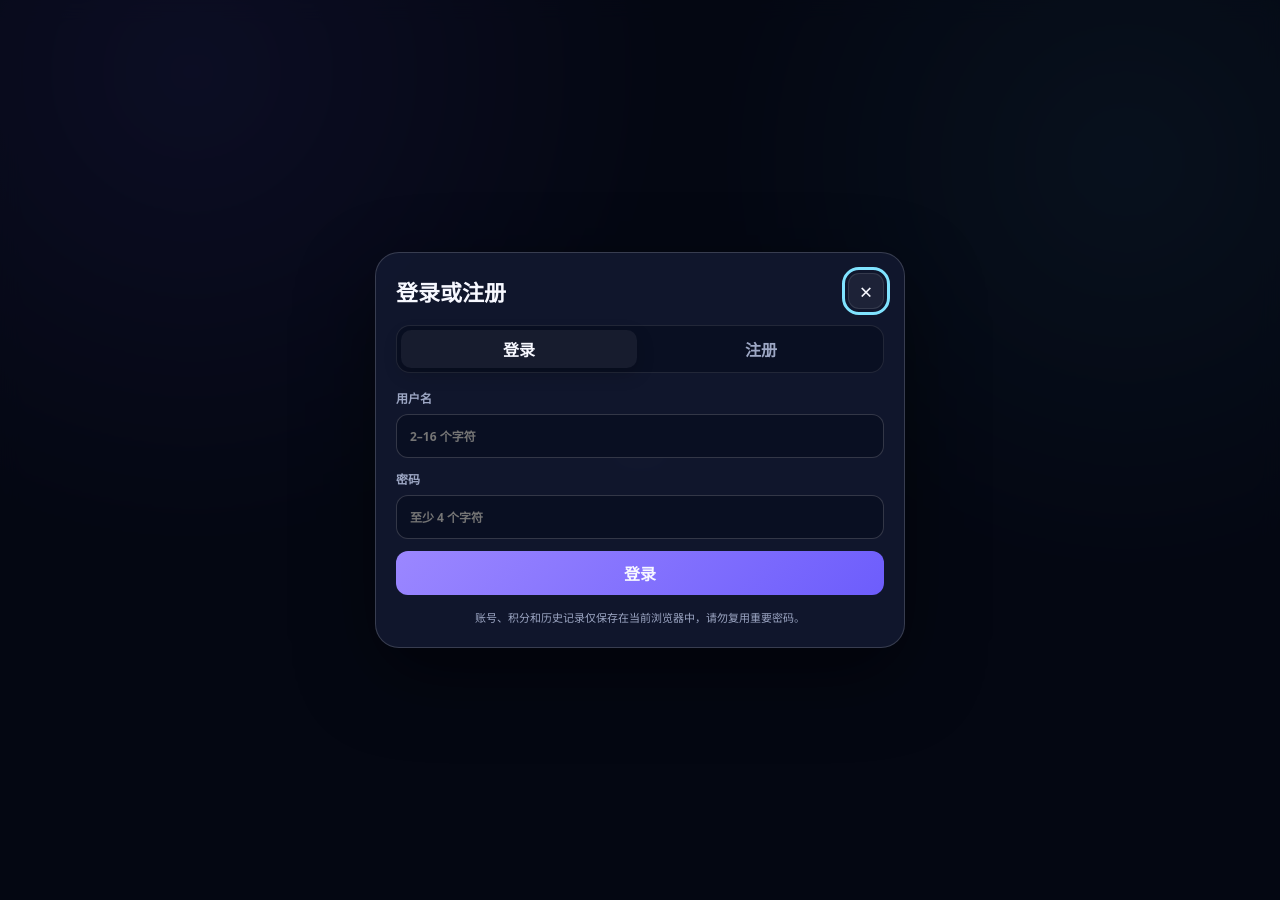
Test: AccountDialog › switches to registration and submits normalized field values
Expected: the dialog "登录或注册" is shown, [375, 252, 905, 648]
Expected: the text "账号、积分和历史记录仅保存在当前浏览器中，请勿复用重要密码。" is shown, [475, 610, 805, 625]
Click the tab "注册": (761, 349) [643, 330, 879, 368]
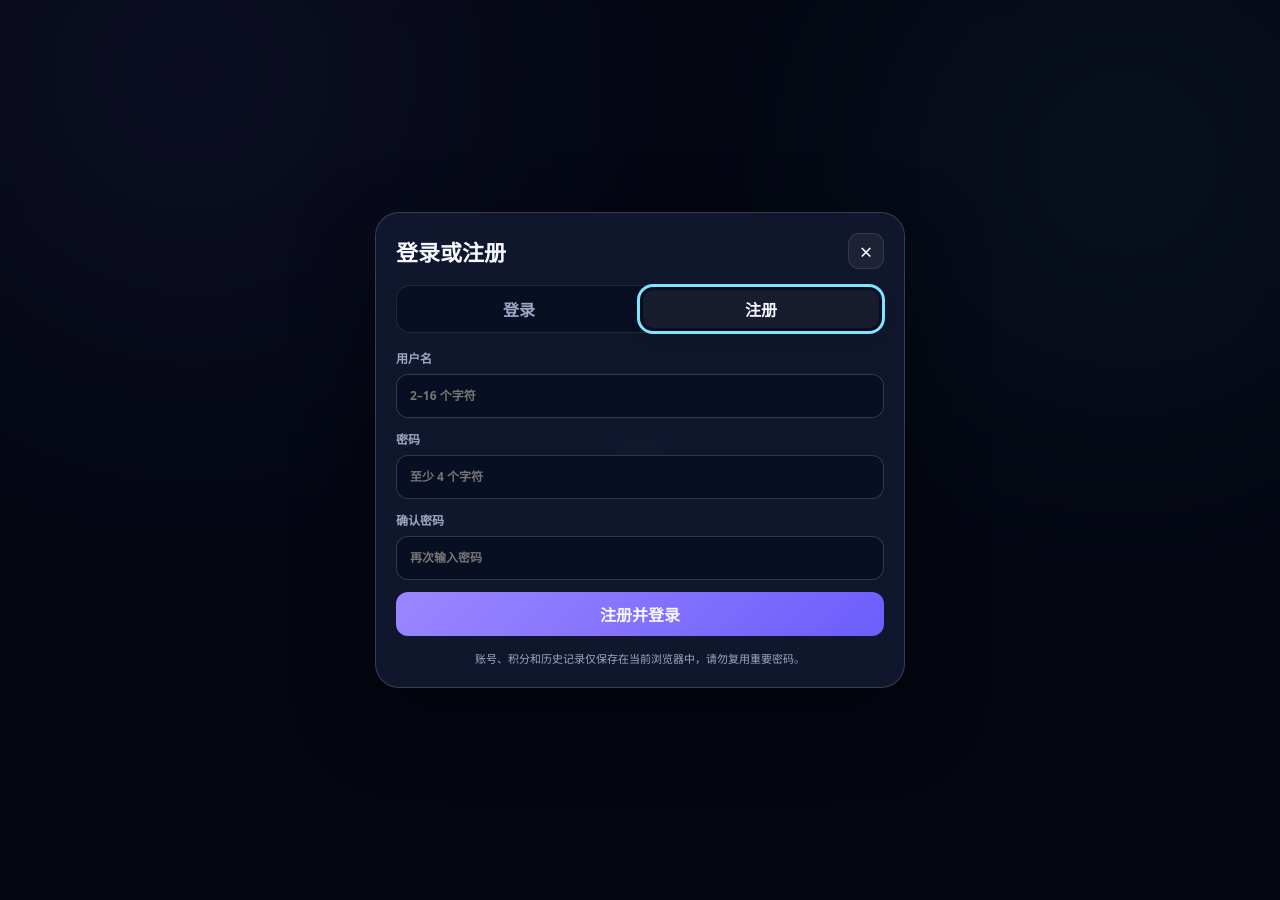
In the field labelled "用户名": (640, 396) [396, 374, 884, 418], type "Alice"
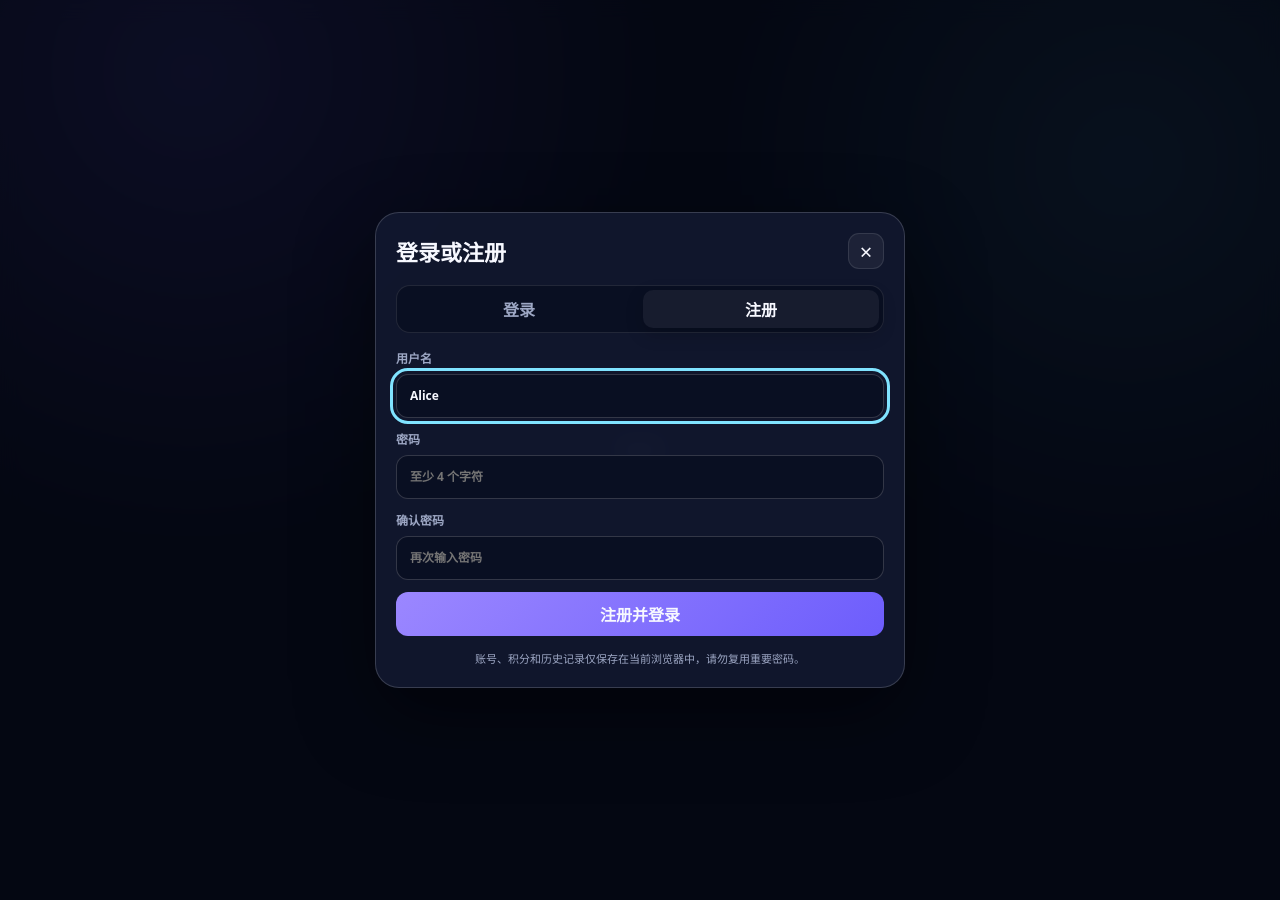
In the password field labelled "密码": (640, 477) [396, 455, 884, 499], type "pass"
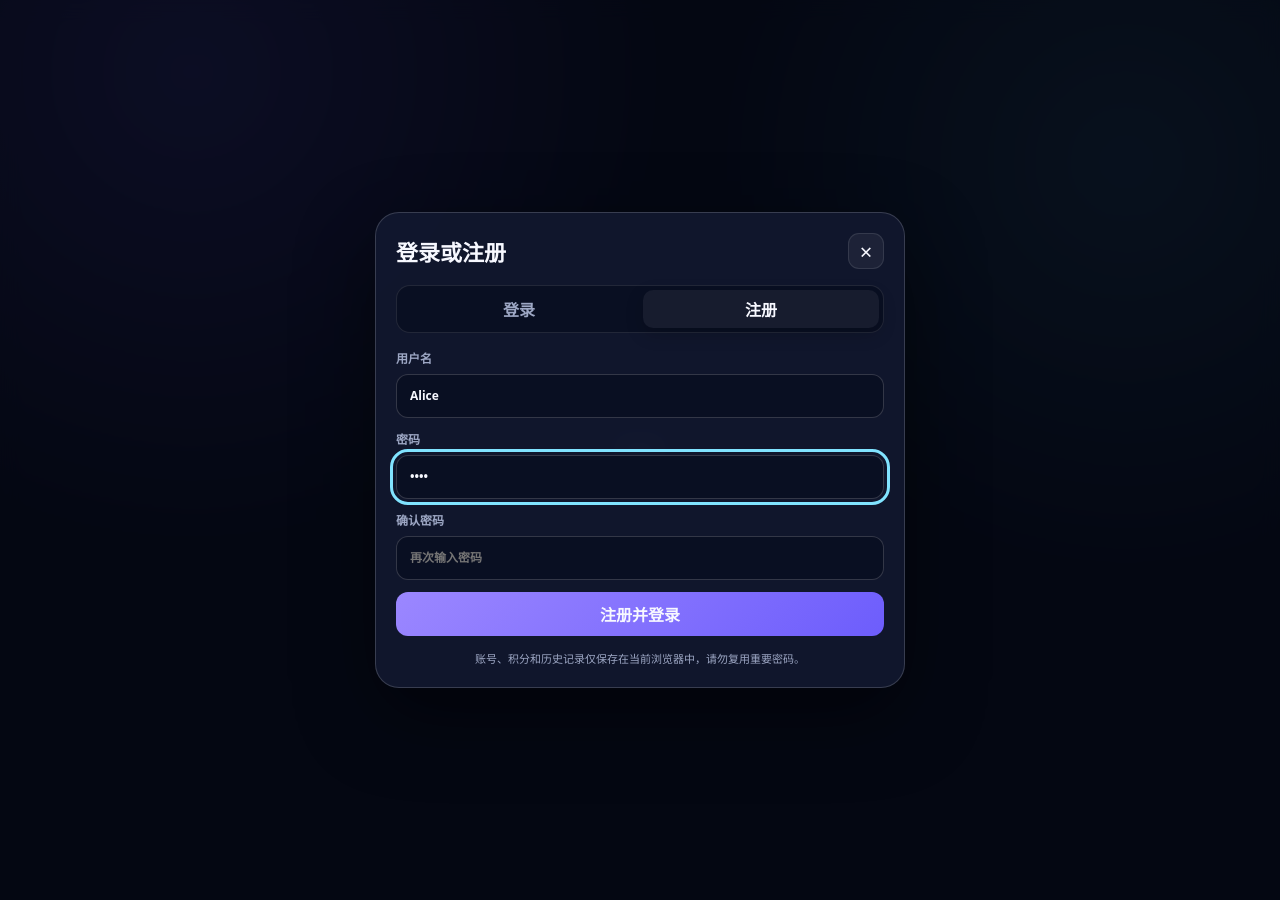
In the password field labelled "确认密码": (640, 558) [396, 536, 884, 580], type "pass"
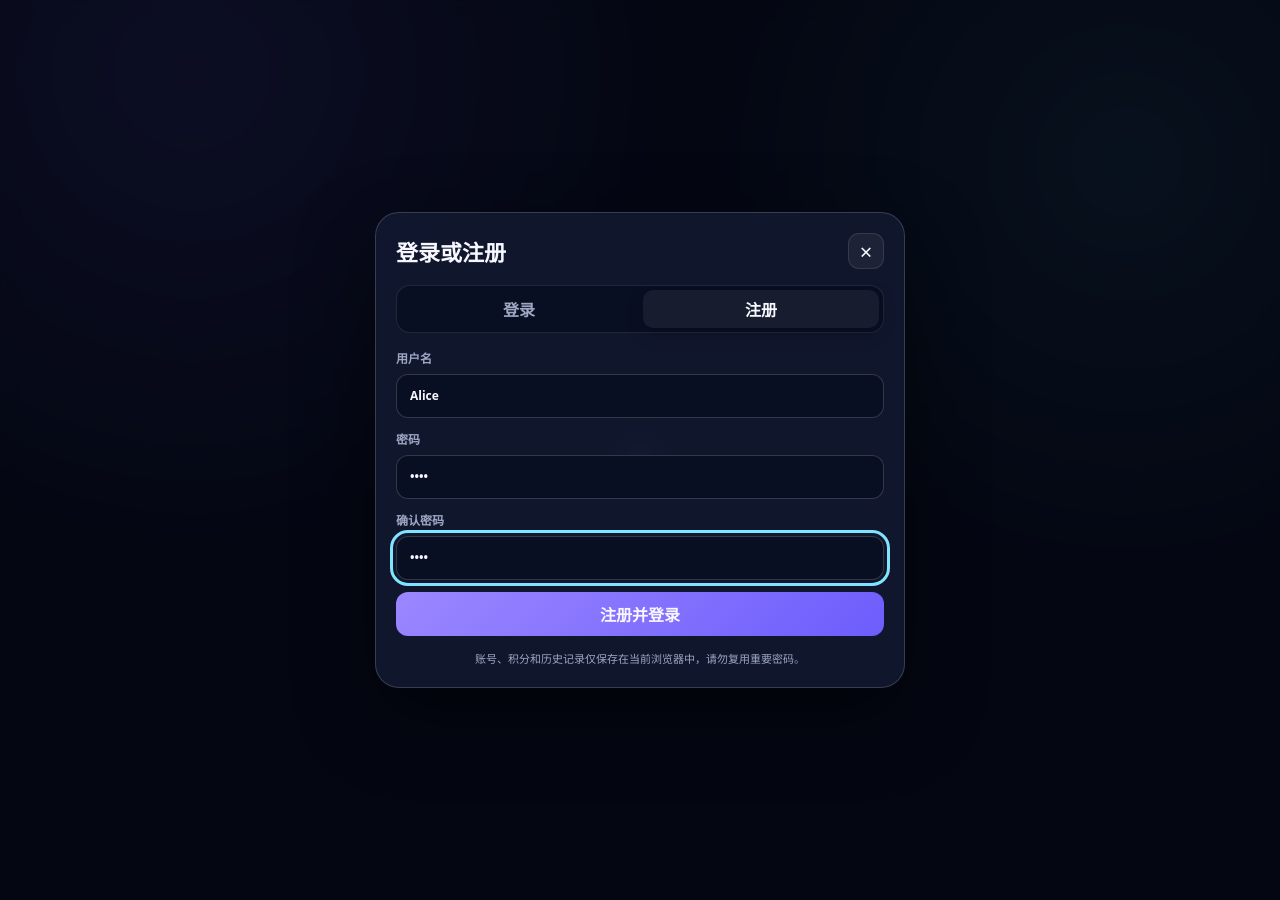
Click the button "注册并登录": (640, 614) [396, 592, 884, 636]
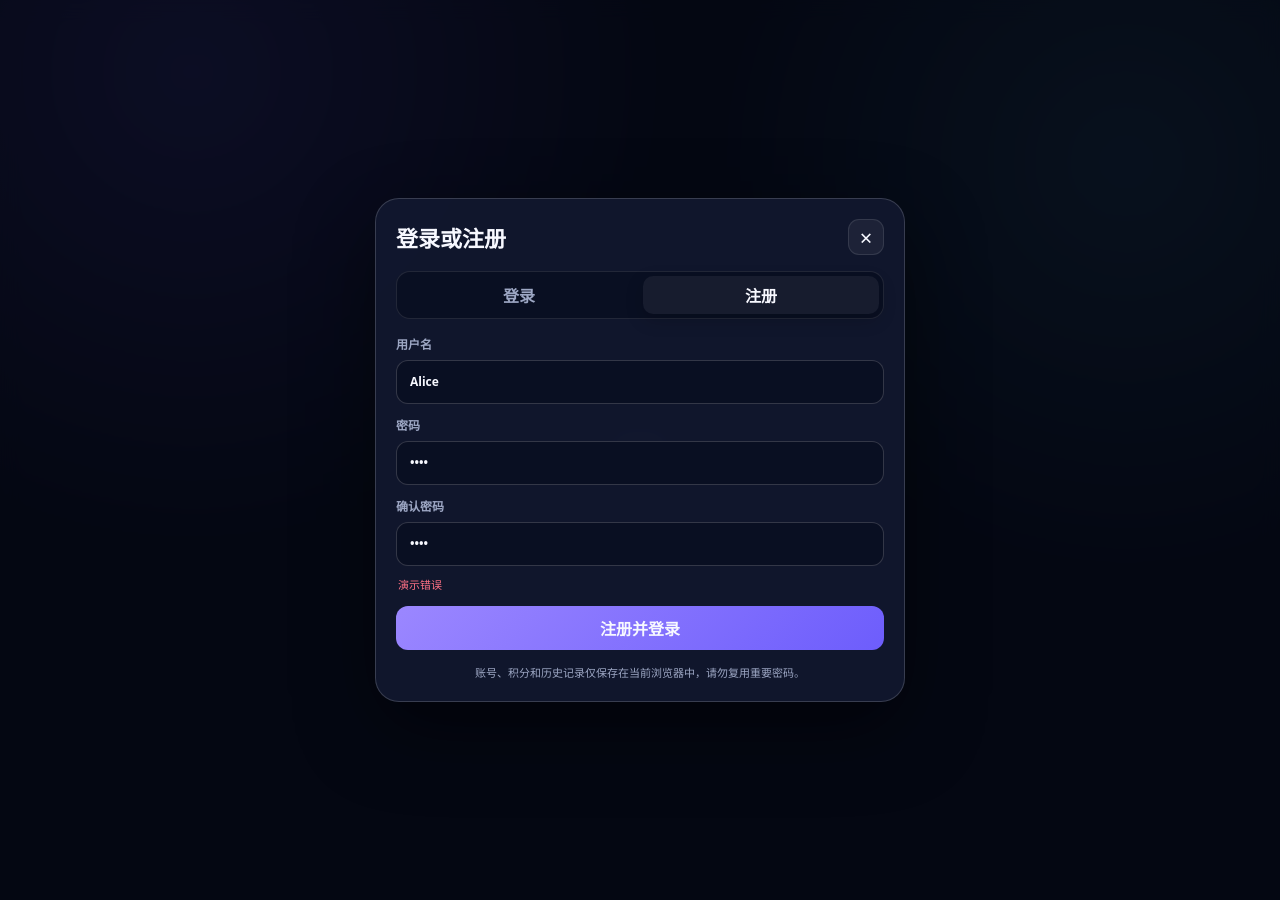
Now the message reads "演示错误", box [398, 577, 442, 592]
